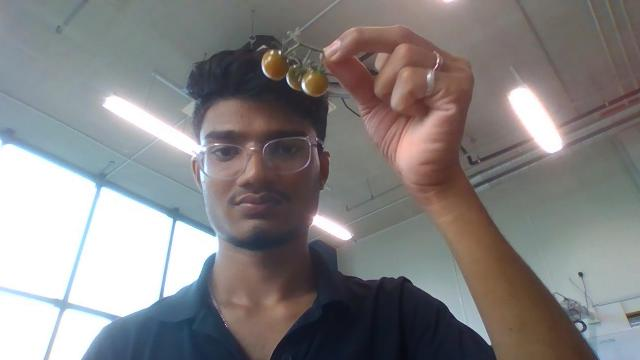Fully Grown: (260, 49, 289, 81), (301, 68, 329, 98), (287, 62, 307, 91)
